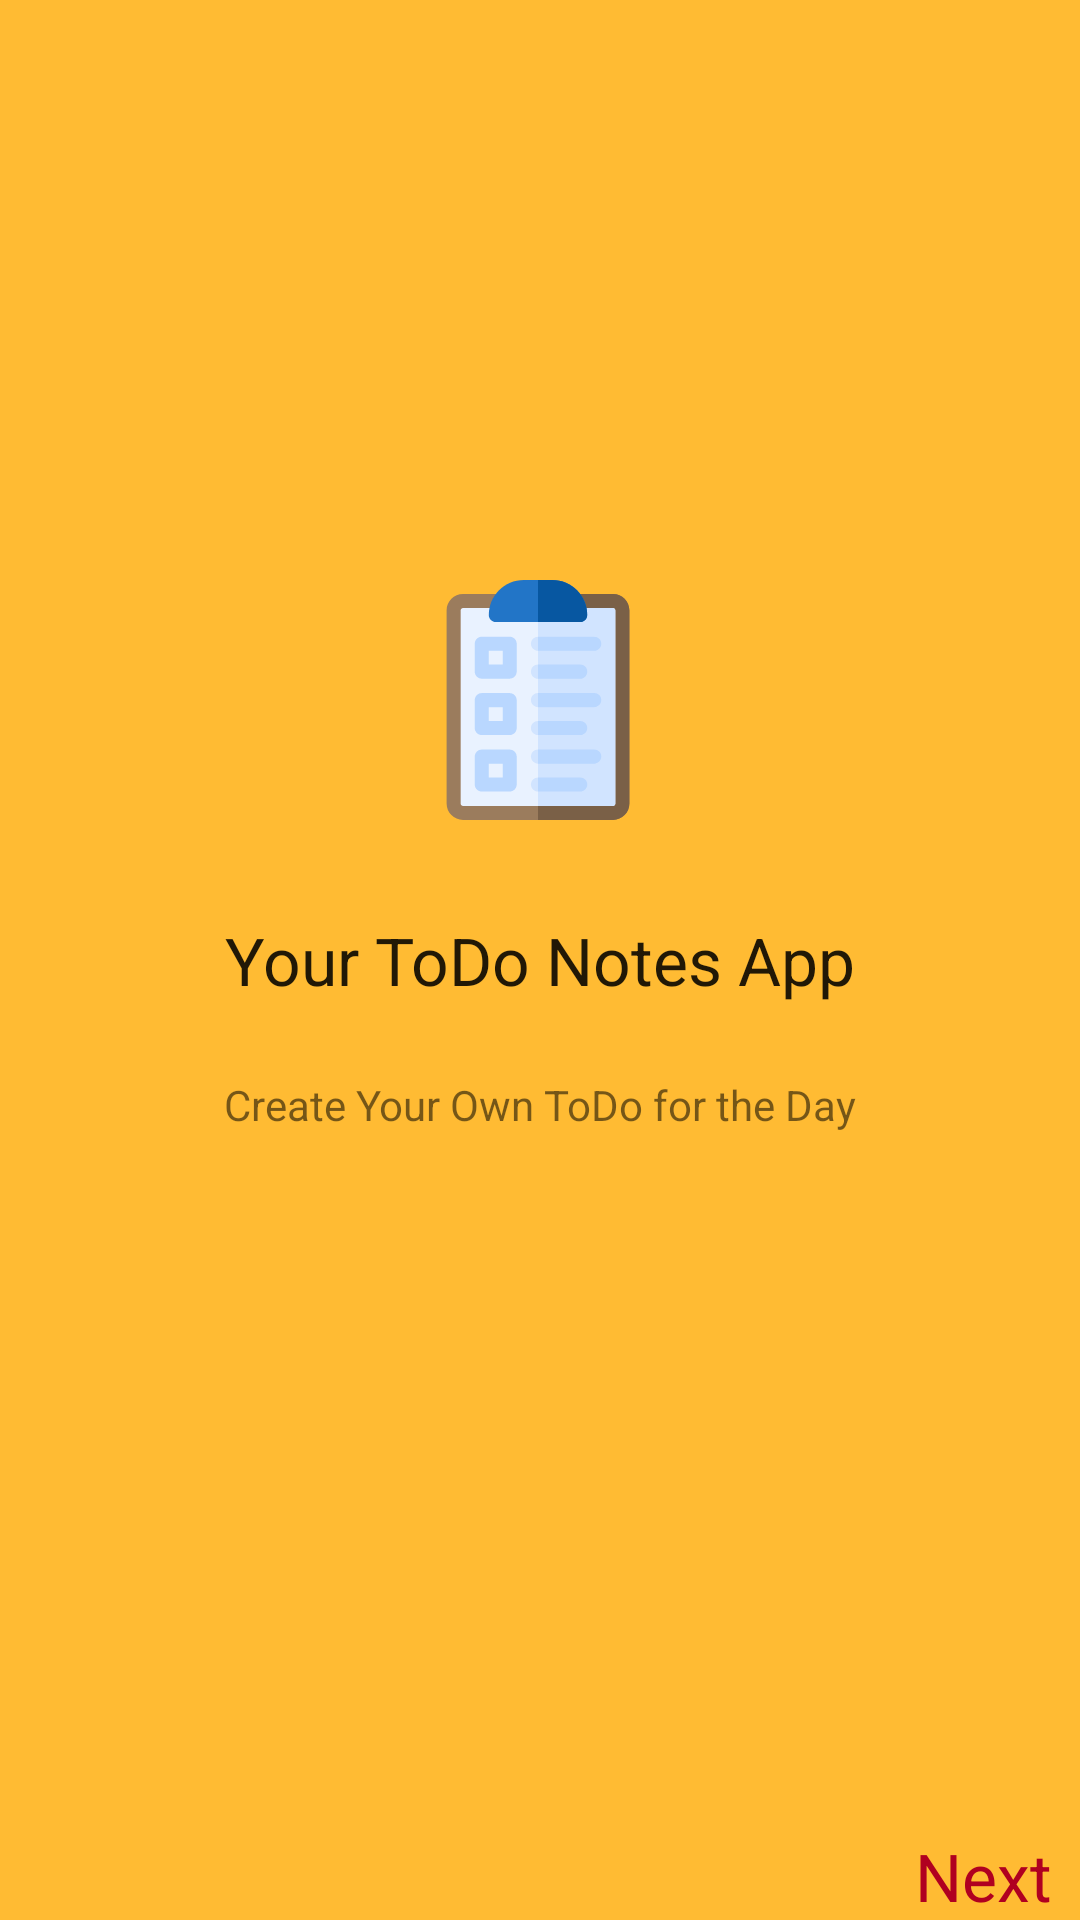

Icon bounding boxes for this 1080 x 1920 phone screenshot, format (x1, y1, x2, y2):
checklist: (446, 580, 630, 820)
